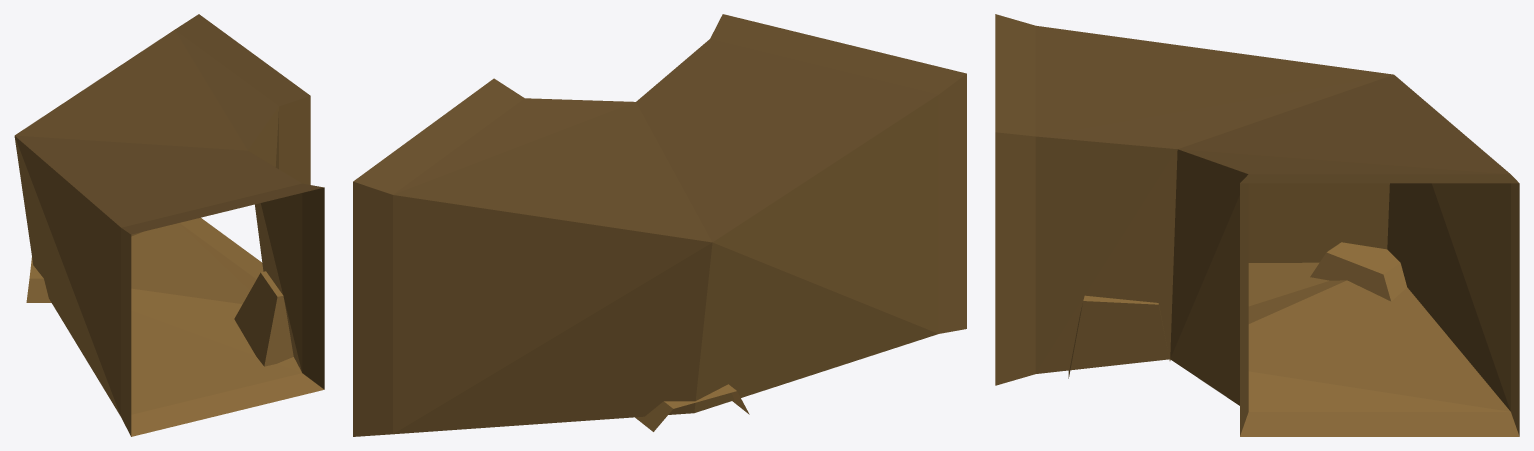
File: SD_Env_Goblin_Tunnel_Corner_01.fbx
3 renders of one model, left to right at view 1: azimuth 30°, elevation 25°; view 2: azimuth 150°, elevation 25°; view 3: azimuth 270°, elevation 25°, orthographic. The views are drawn at different scales.
Parts seen in each view (by area): view 1: SD_Env_Goblin_Tunnel_Corner_01; view 2: SD_Env_Goblin_Tunnel_Corner_01; view 3: SD_Env_Goblin_Tunnel_Corner_01.
Boxes of the visible parts, x1,y1,x2,y2 form: SD_Env_Goblin_Tunnel_Corner_01: [14, 14, 324, 436]; SD_Env_Goblin_Tunnel_Corner_01: [353, 14, 966, 436]; SD_Env_Goblin_Tunnel_Corner_01: [995, 14, 1519, 436].
Bounding box in the file's own units: 4.95 × 3.46 × 6.48.
